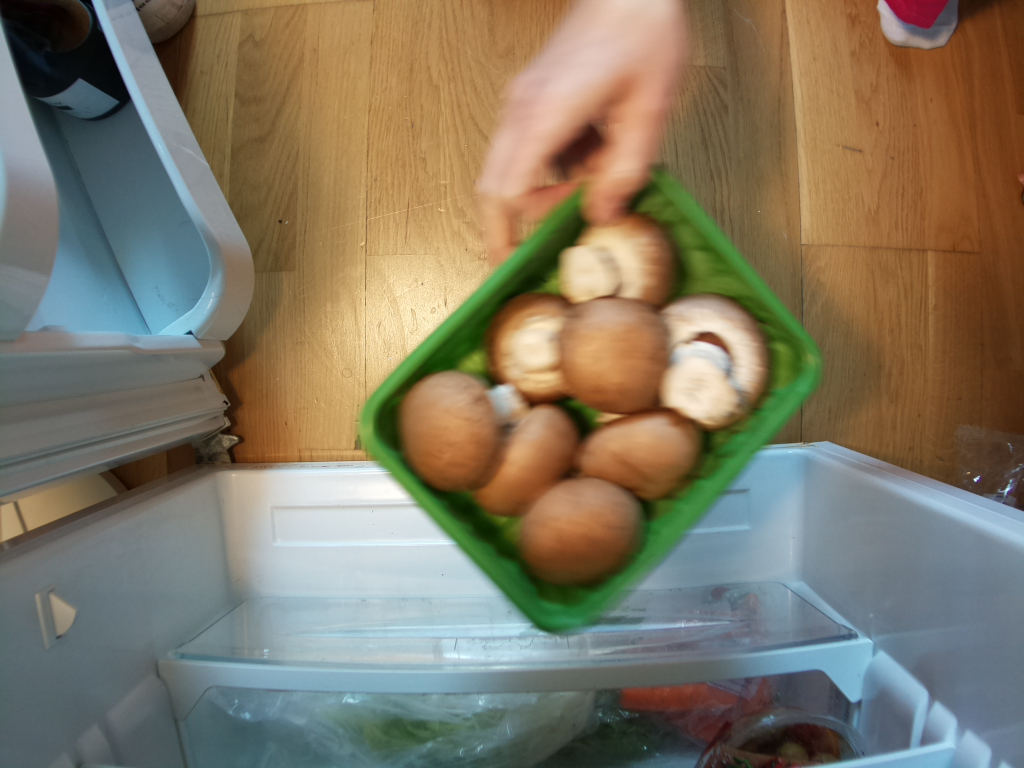mushrooms: (345, 158, 827, 644)
